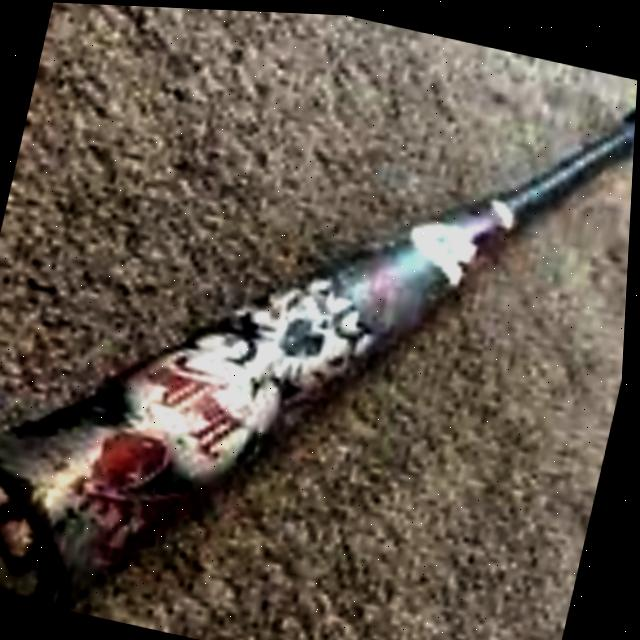baseball bat: (0, 105, 637, 608)
